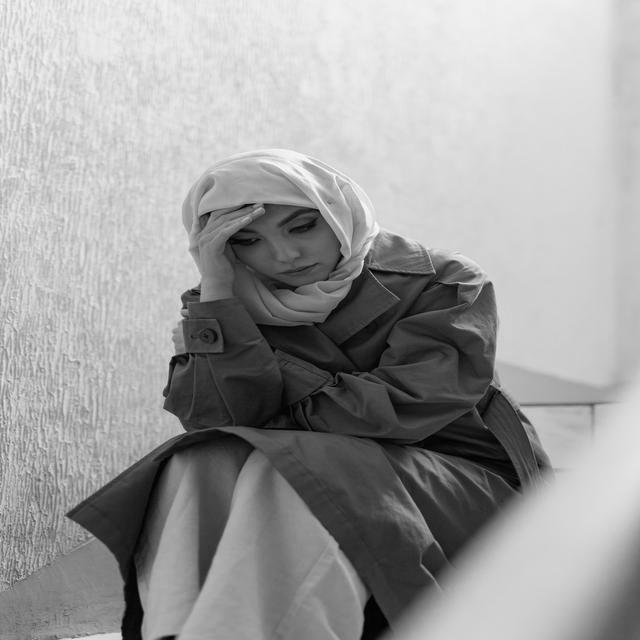Sadness: (233, 208, 330, 286)
